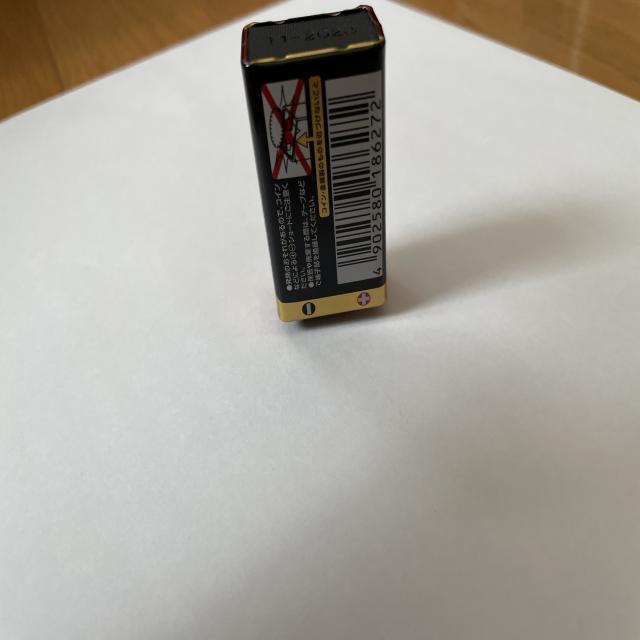9V: (240, 6, 389, 322)
